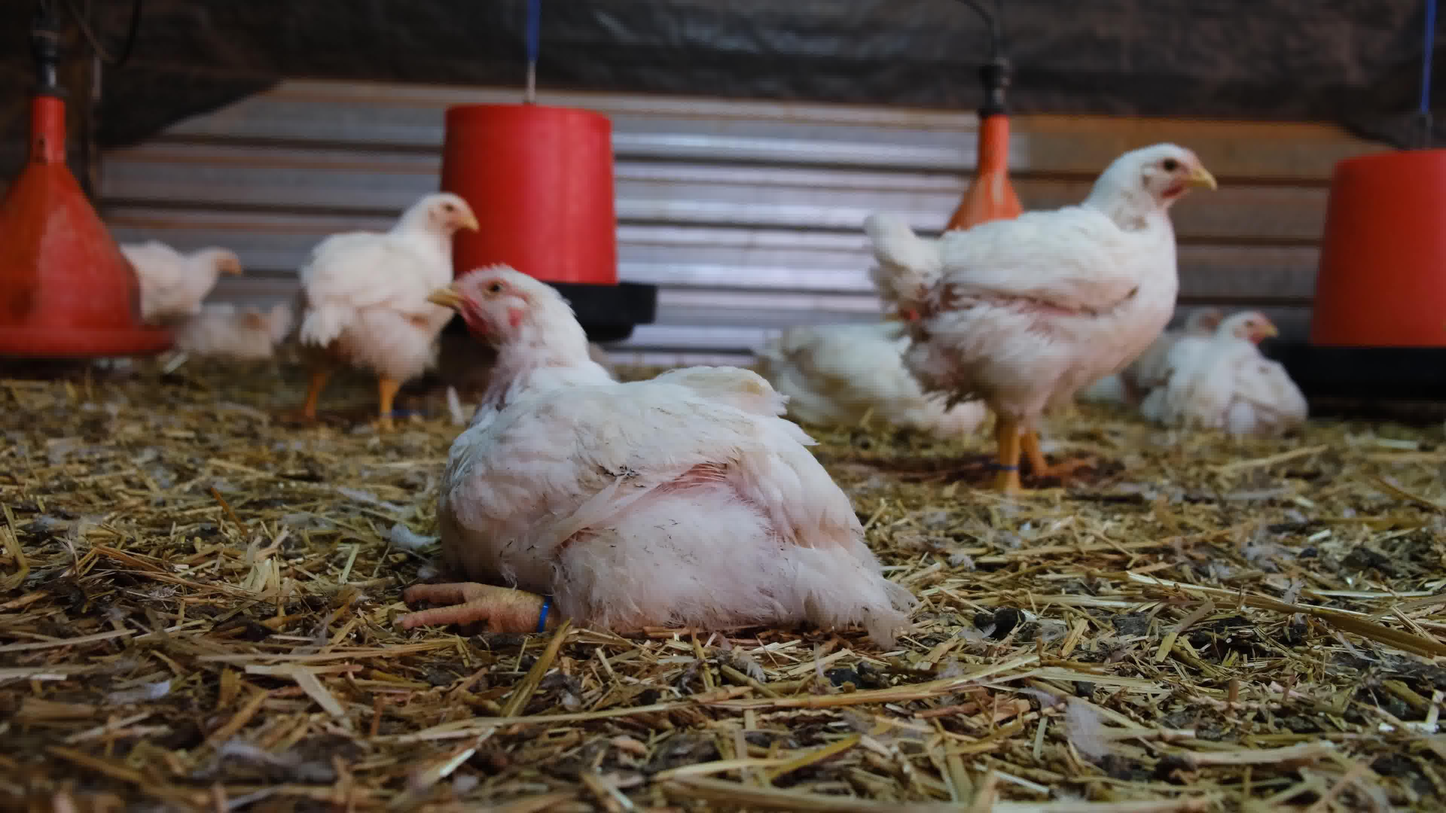AbNormal: (394, 266, 909, 641), (744, 311, 1013, 437), (1161, 312, 1306, 432), (1090, 301, 1232, 407), (153, 300, 292, 371), (542, 74, 550, 83)
Normal: (866, 143, 1219, 502), (289, 189, 479, 435), (114, 243, 245, 316)
